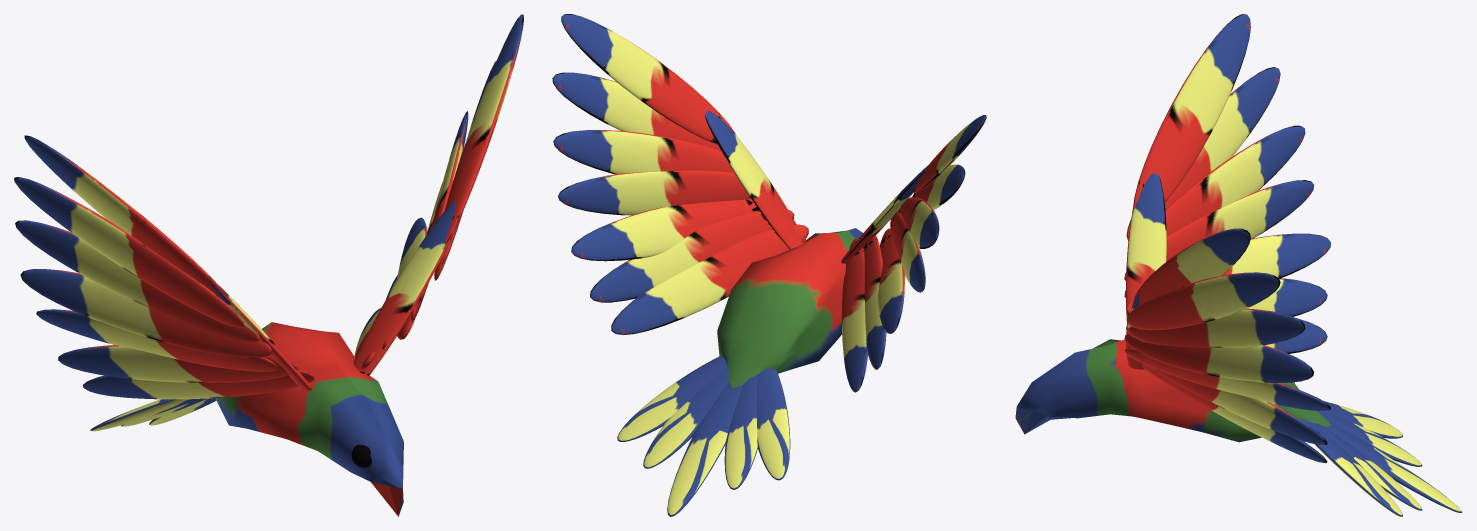
Rendered from lorikeet.glb.
The picture shows the model from 3 angles, left to right: view 1: azimuth 30°, elevation 25°; view 2: azimuth 150°, elevation 25°; view 3: azimuth 270°, elevation 25°; orthographic projection. The views are drawn at different scales.
Visible parts, largest first — view 1: Sphere.009, Cube, Sphere.002; view 2: Sphere.009, Sphere.002, Cube; view 3: Sphere.009, Cube, Sphere.002, Cube.001.
Part boxes in pixels (<box>): Sphere.009: <box>14,14,523,399</box>; Cube: <box>215,322,403,488</box>; Sphere.002: <box>90,398,216,431</box>; Sphere.009: <box>552,14,986,392</box>; Sphere.002: <box>617,356,790,516</box>; Cube: <box>717,228,862,388</box>; Sphere.009: <box>1124,14,1330,463</box>; Cube: <box>1017,339,1331,442</box>; Sphere.002: <box>1304,401,1462,516</box>; Cube.001: <box>1015,406,1050,434</box>.
Size of the model in its own units: 4.64 by 3.92 by 4.06.
5 materials, 3 textured.
